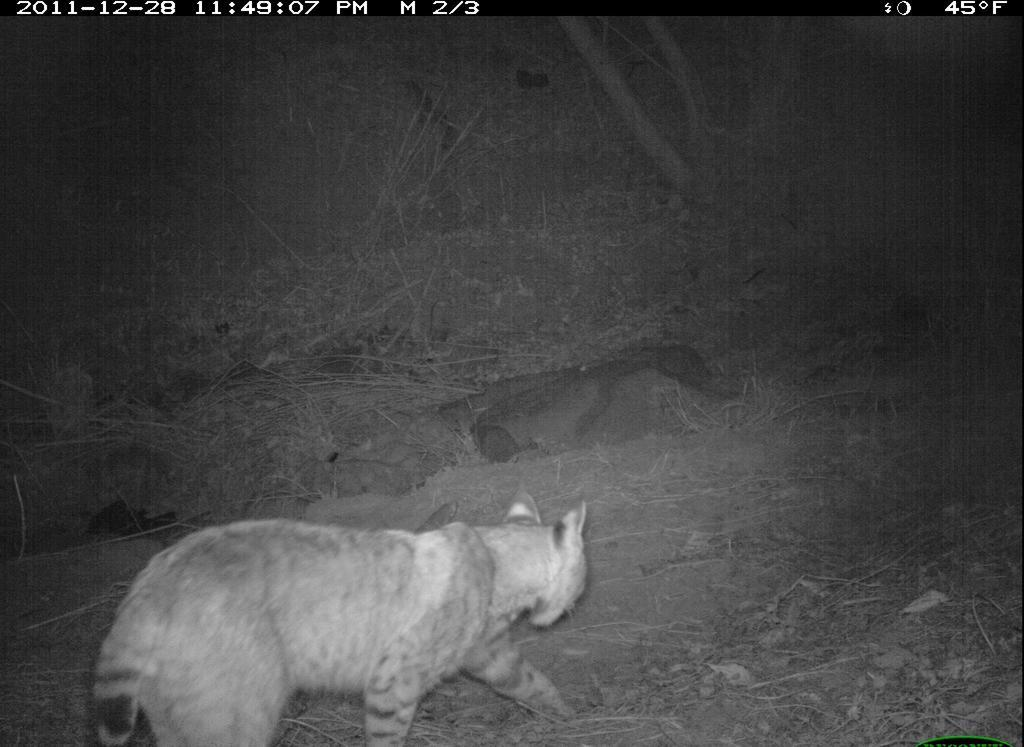bobcat: (80, 481, 601, 747)
